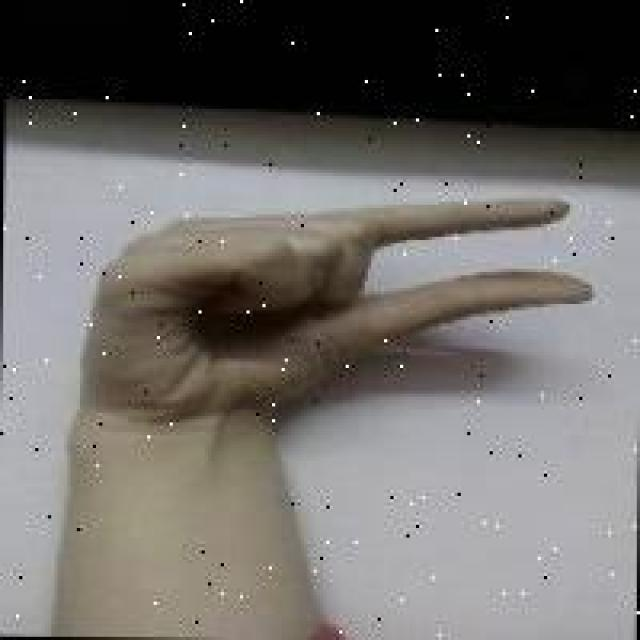G: (80, 174, 595, 421)
